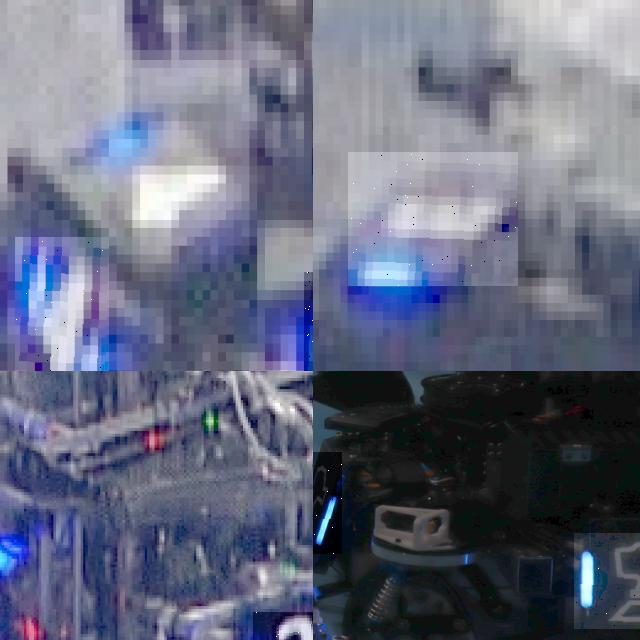B3: (348, 152, 518, 286)
B4: (15, 237, 108, 371)
Bs: (574, 533, 640, 628), (313, 452, 341, 553)
